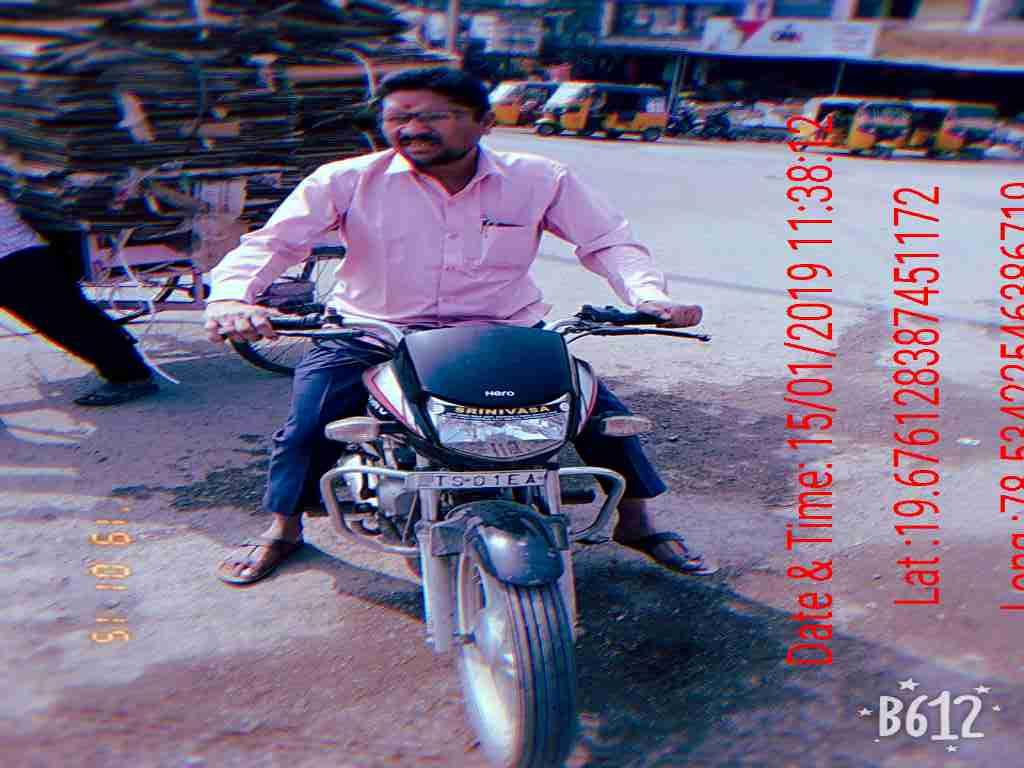plate: (401, 469, 557, 492)
